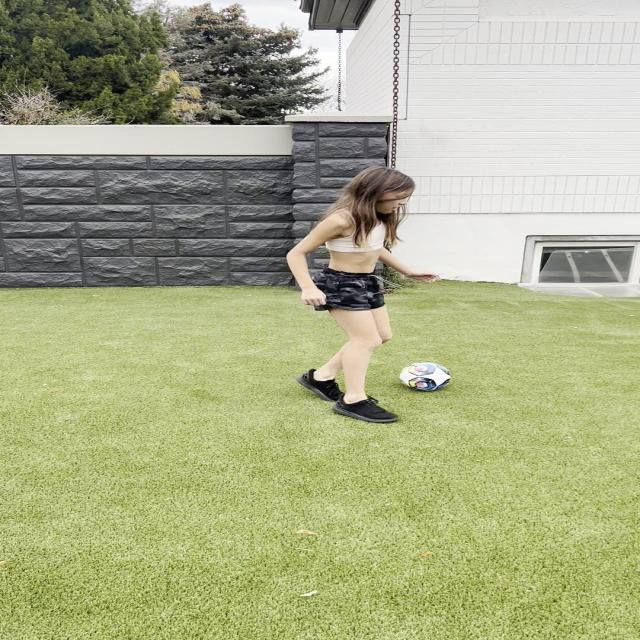Soccer Ball: (399, 361, 452, 392)
